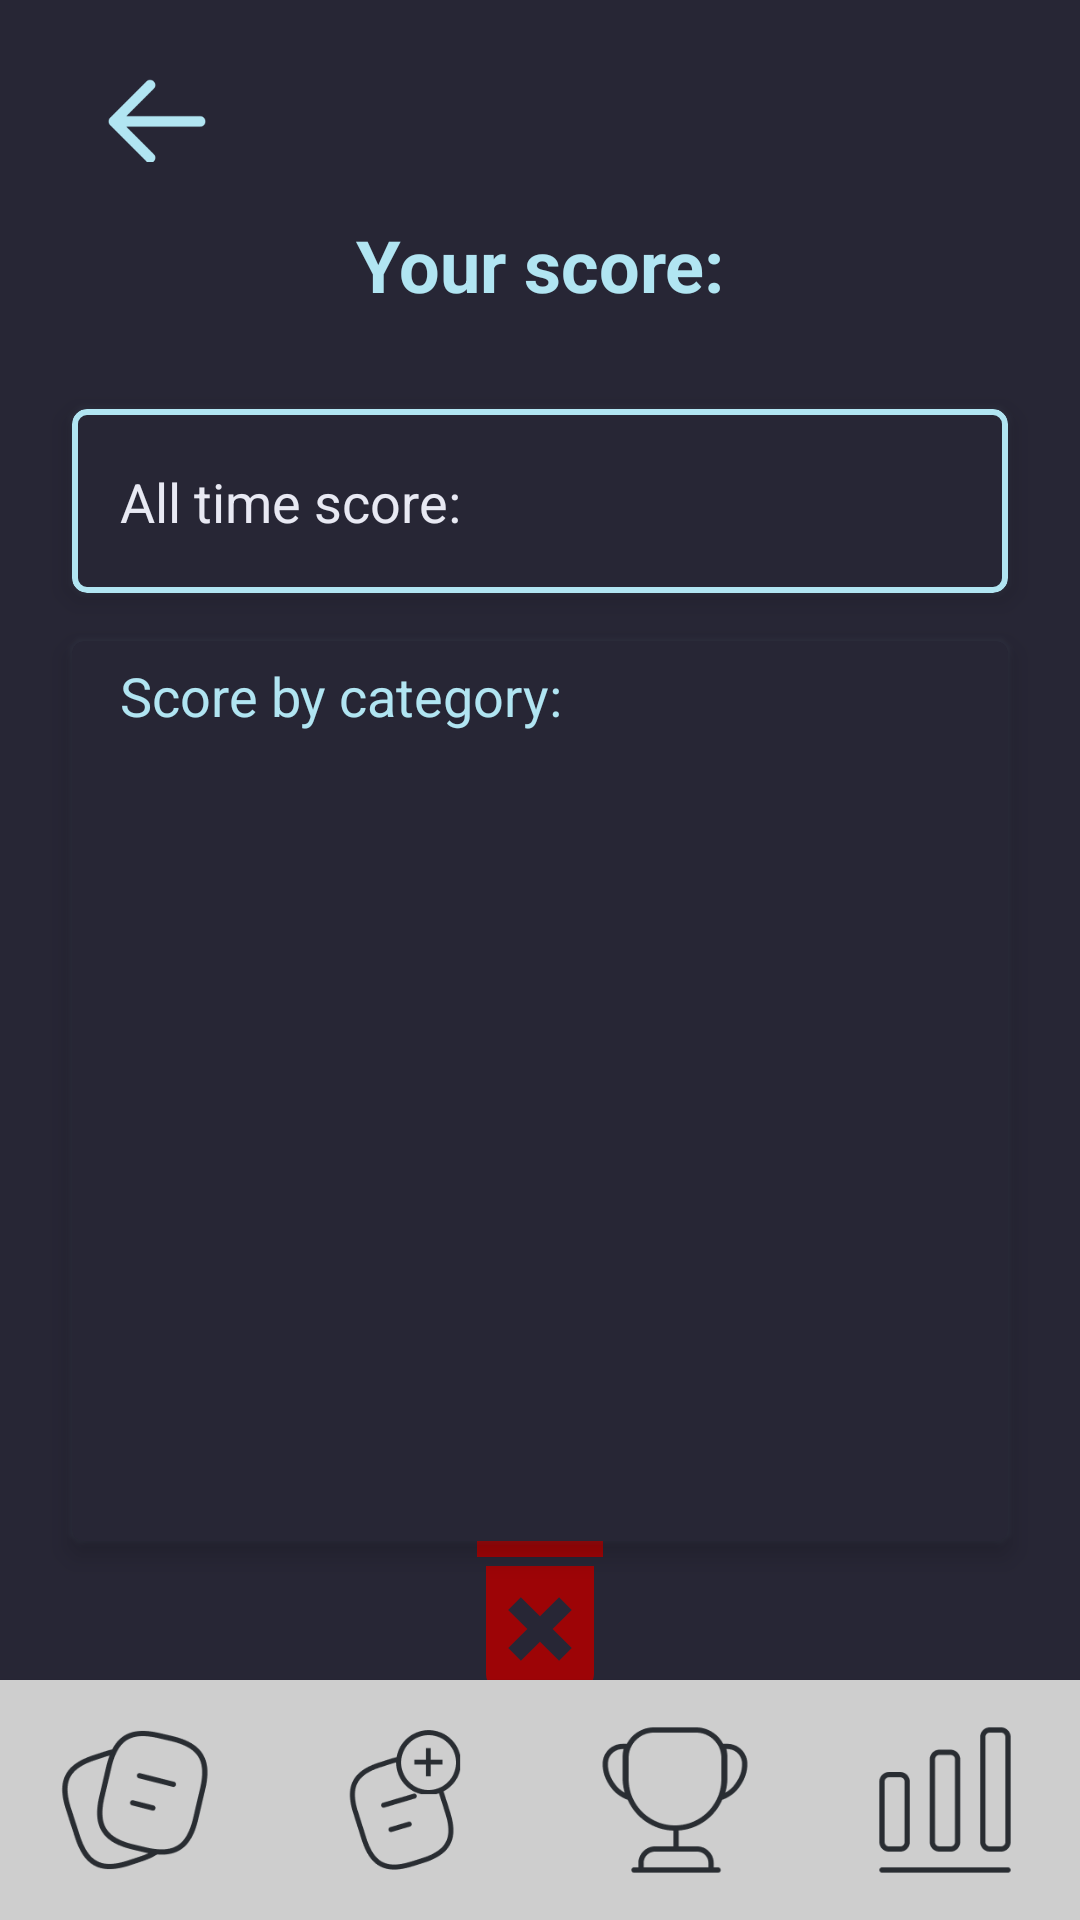

Point at icon controls on the screen. Image size 1080px x 1920px, points as (x,y).
arrow back: (157,120)
delete forever: (540,1630)
stats: (945,1800)
